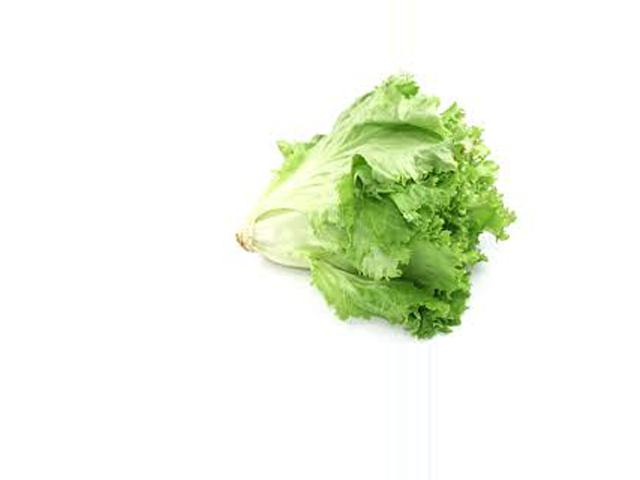lettuce: (231, 67, 507, 342)
